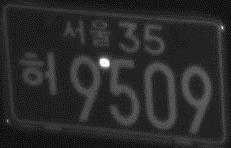0: (143, 60, 178, 131)
3: (115, 19, 141, 53)
5: (108, 56, 141, 128), (142, 22, 166, 57)
9: (68, 53, 103, 124), (180, 64, 214, 136)
서울_O: (62, 17, 111, 48)
허: (18, 50, 59, 96)
